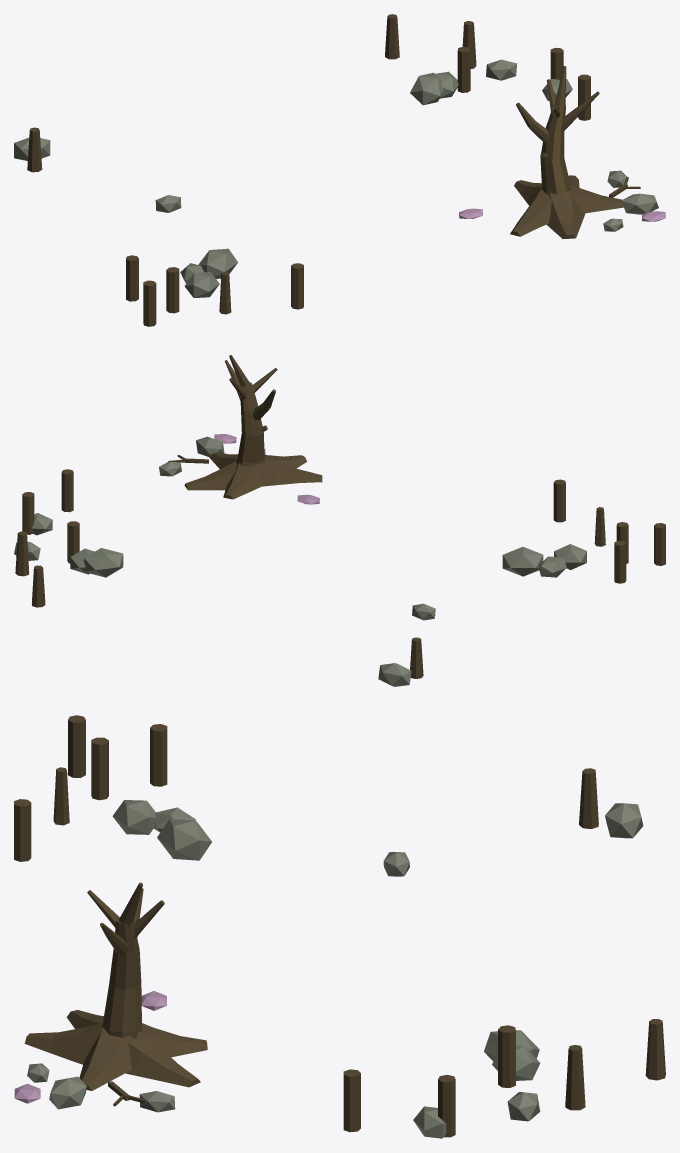
The model's file is ancient_oak_solid_props.fbx.
The picture shows the model from 3 angles, top to bottom: view 1: azimuth 30°, elevation 25°; view 2: azimuth 150°, elevation 25°; view 3: azimuth 270°, elevation 25°; orthographic projection. The views are drawn at different scales.
Visible parts, largest first — view 1: chunk_ancient_oak__PropsSolid; view 2: chunk_ancient_oak__PropsSolid; view 3: chunk_ancient_oak__PropsSolid.
Part boxes in pixels (<box>): chunk_ancient_oak__PropsSolid: <box>14,14,665,326</box>; chunk_ancient_oak__PropsSolid: <box>14,355,665,686</box>; chunk_ancient_oak__PropsSolid: <box>14,715,665,1138</box>.
Size of the model in its own units: 201 by 49.03 by 149.
